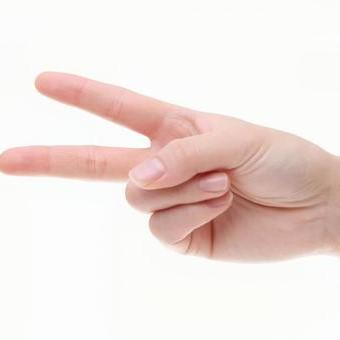tyoki: (0, 71, 323, 263)
